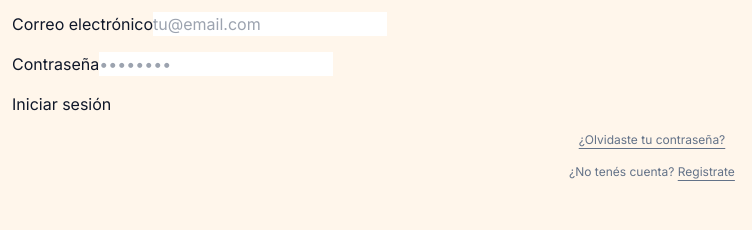
Test: LoginFormContainer › shows server error when signIn fails
The image size is (752, 230).
In the field labelled "Correo electrónico": (270, 24) top-left (153, 12), bottom-right (387, 36), type "wrong@test.com"
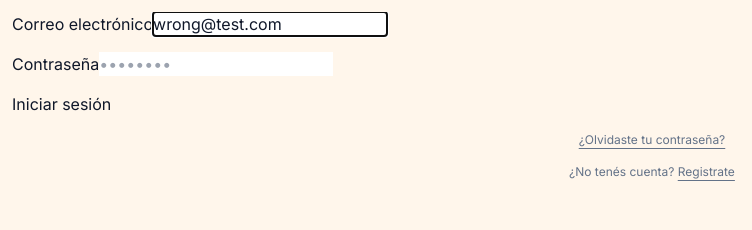
In the password field labelled "Contraseña": (216, 64) top-left (99, 52), bottom-right (333, 76), type "wrongpass"
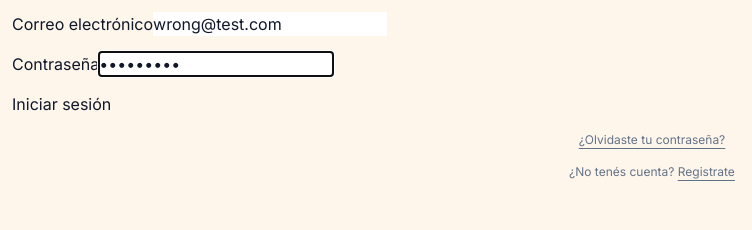
Click the button "Iniciar sesión": click(62, 104) top-left (12, 92), bottom-right (111, 116)
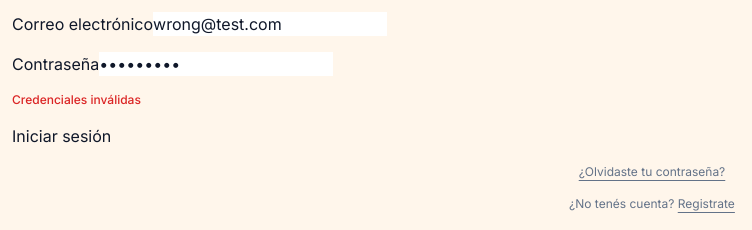
expect the text "Credenciales inválidas" is shown: met, box top-left (12, 92), bottom-right (141, 107)
